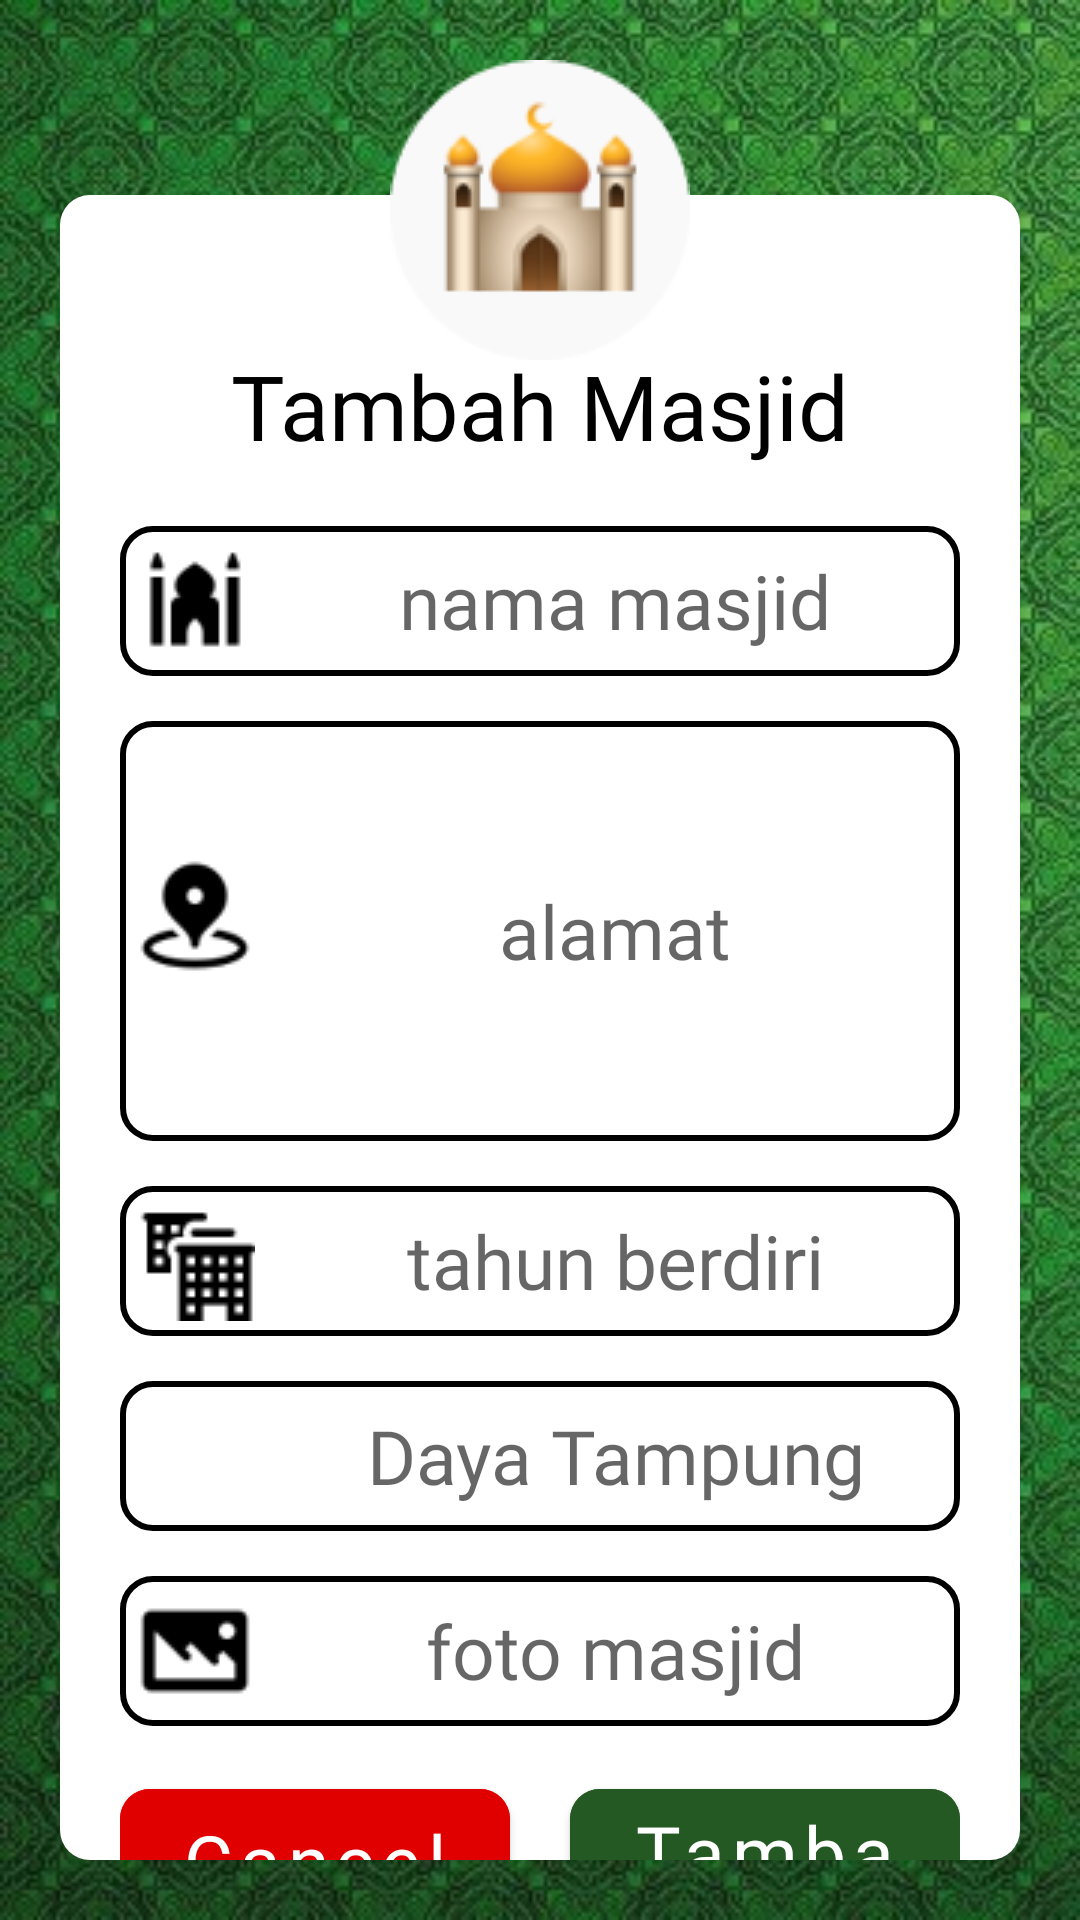

Icons on this 1080*1920 Android screen, each with its box as (x1, y1, x2, y2):
condo: (140, 1212, 255, 1321)
mosque: (149, 552, 241, 647)
place marker: (140, 861, 250, 971)
